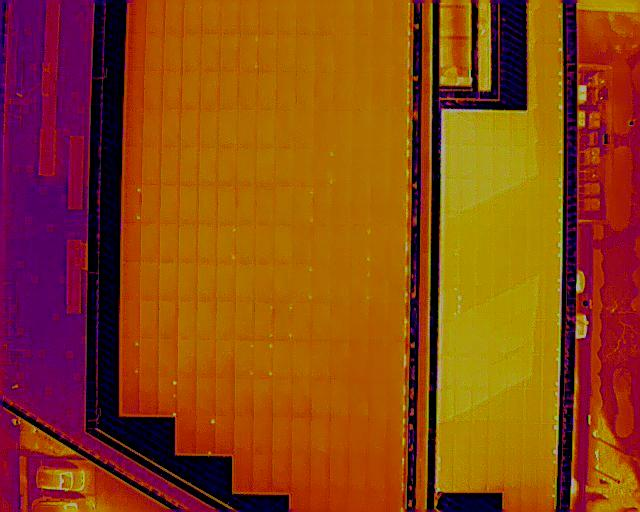Cell-Multi: (239, 32, 260, 73), (313, 148, 334, 187), (217, 223, 237, 263), (293, 263, 314, 301), (293, 187, 314, 225), (197, 416, 217, 455), (274, 302, 294, 341), (255, 301, 274, 341), (353, 223, 372, 263), (255, 339, 274, 378), (158, 376, 177, 415), (235, 340, 254, 378), (123, 184, 142, 222), (122, 338, 140, 377)
No-Anomaly: (314, 224, 335, 265), (201, 32, 222, 73), (333, 148, 354, 188), (349, 300, 369, 341), (293, 301, 313, 342), (163, 68, 183, 109), (235, 301, 256, 340), (348, 380, 369, 419), (293, 224, 314, 263), (144, 31, 165, 70), (315, 72, 336, 111), (365, 418, 387, 455), (158, 300, 178, 340), (273, 377, 293, 417), (177, 414, 197, 454), (179, 223, 199, 263), (238, 186, 258, 226), (182, 31, 202, 71), (277, 71, 297, 111), (219, 70, 239, 110), (349, 341, 370, 379), (234, 417, 255, 455), (257, 72, 278, 110), (365, 455, 386, 493), (346, 419, 368, 455), (162, 108, 182, 147), (219, 109, 239, 148), (236, 263, 256, 302), (372, 109, 392, 148), (178, 262, 198, 301), (217, 263, 237, 302), (177, 340, 197, 379), (215, 377, 235, 416), (235, 378, 255, 417), (273, 417, 293, 456), (218, 147, 238, 186), (256, 186, 276, 225), (236, 224, 256, 263), (311, 418, 331, 457), (335, 34, 355, 73), (278, 33, 298, 72), (259, 33, 279, 72), (143, 70, 163, 109), (316, 34, 336, 73), (160, 185, 180, 224), (197, 338, 216, 379), (313, 301, 332, 342), (275, 146, 294, 187), (314, 187, 335, 224), (314, 111, 335, 148), (254, 377, 273, 417), (276, 110, 296, 148), (334, 109, 354, 147), (330, 302, 350, 340), (197, 301, 217, 339), (158, 339, 178, 377), (139, 339, 159, 377), (196, 378, 216, 416), (312, 378, 331, 418), (200, 71, 220, 109), (257, 146, 276, 186), (352, 148, 371, 188), (179, 185, 199, 223), (335, 72, 355, 110), (141, 223, 160, 263), (333, 224, 352, 264), (296, 71, 315, 111), (220, 34, 240, 72), (354, 34, 374, 72), (239, 70, 258, 110), (160, 147, 180, 185), (255, 263, 274, 302), (200, 109, 219, 148), (274, 263, 293, 302), (178, 301, 197, 340), (292, 417, 311, 456), (254, 417, 273, 456), (294, 148, 313, 187), (199, 147, 218, 186), (218, 185, 237, 224), (160, 223, 179, 262), (374, 33, 393, 72), (181, 71, 200, 110), (238, 147, 257, 186), (257, 110, 277, 147), (143, 109, 163, 146), (329, 419, 349, 456), (273, 455, 293, 492), (371, 148, 389, 189), (124, 108, 143, 146), (239, 109, 258, 147), (181, 109, 200, 147), (177, 378, 196, 416), (139, 376, 158, 414), (216, 340, 235, 378), (141, 263, 160, 301), (140, 301, 159, 339), (330, 341, 349, 379), (274, 340, 293, 378), (126, 32, 145, 70), (160, 262, 179, 300), (142, 146, 161, 184), (124, 146, 143, 184), (181, 147, 200, 185), (199, 185, 218, 223), (163, 31, 182, 69), (374, 72, 393, 110), (297, 35, 316, 73), (142, 185, 161, 223), (293, 378, 311, 418), (388, 224, 406, 264), (199, 223, 217, 263), (235, 456, 255, 492), (313, 264, 332, 301), (312, 343, 331, 380), (256, 225, 275, 262), (354, 72, 373, 109), (295, 111, 314, 148), (354, 108, 372, 147), (386, 300, 404, 339), (368, 380, 386, 419), (275, 186, 293, 225), (371, 224, 389, 263), (122, 261, 140, 300), (126, 69, 144, 108), (388, 148, 406, 187), (239, 0, 260, 33), (199, 263, 217, 301), (368, 341, 386, 379), (385, 379, 403, 417), (335, 187, 354, 223), (384, 456, 403, 492), (275, 224, 293, 262), (292, 456, 311, 492), (311, 457, 330, 493), (350, 264, 370, 298), (369, 300, 386, 340), (297, 0, 317, 34), (124, 223, 141, 263), (217, 302, 235, 339), (293, 340, 311, 377), (330, 456, 348, 493), (383, 419, 402, 454), (371, 188, 390, 223), (123, 299, 140, 338), (331, 380, 348, 419), (216, 416, 233, 455), (349, 455, 366, 494), (259, 0, 279, 33), (254, 455, 272, 491), (386, 341, 403, 379), (122, 376, 139, 414), (353, 188, 372, 222), (336, 0, 355, 34), (278, 0, 297, 33), (374, 0, 393, 33), (183, 0, 202, 33), (370, 265, 388, 299), (333, 265, 350, 301), (355, 0, 373, 34), (317, 0, 335, 34), (387, 264, 405, 298), (392, 34, 408, 72), (146, 0, 165, 32), (202, 0, 221, 32), (221, 0, 239, 33), (392, 110, 407, 149), (390, 188, 406, 224), (165, 0, 183, 32), (128, 0, 146, 32), (392, 0, 409, 33), (393, 73, 407, 108)
